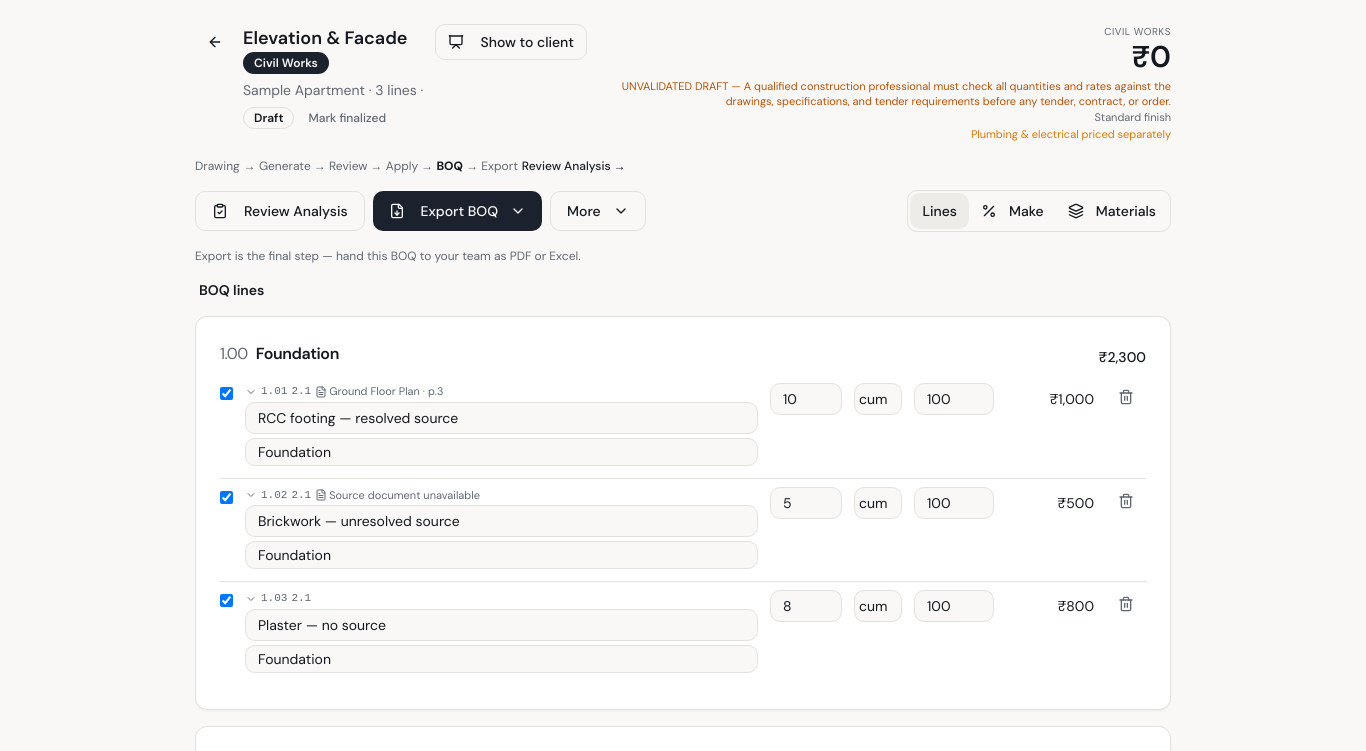
Test case: OpsBoqBuilder — material schedule withheld (AOR coefficients failed the DAR 2023 check) › shows why quantities are unavailable and never shows an exploded quantity
The width and height of the screenshot is (1366, 751).
Click the button "Materials" at (1112, 211), box [1056,193,1168,229]
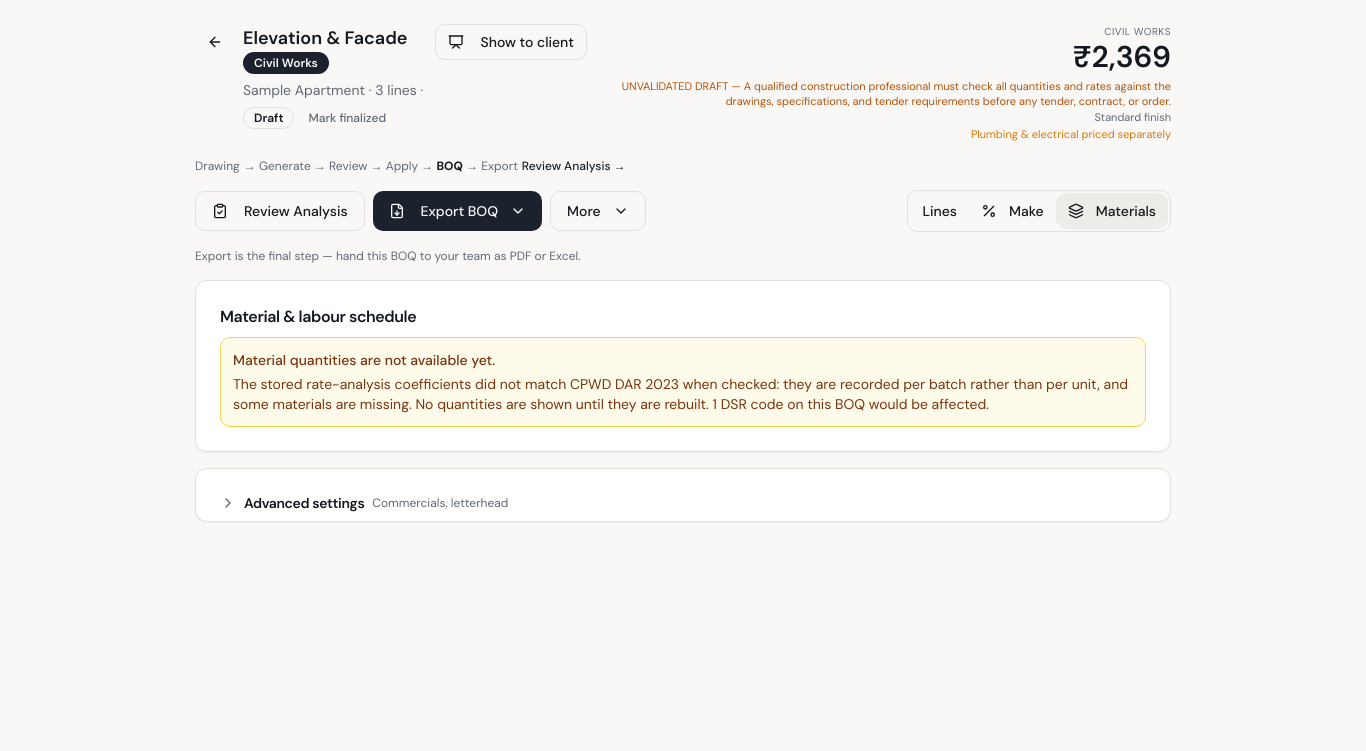
Expected: the text "Material quantities are not available yet." is shown, [233,351,495,369]
